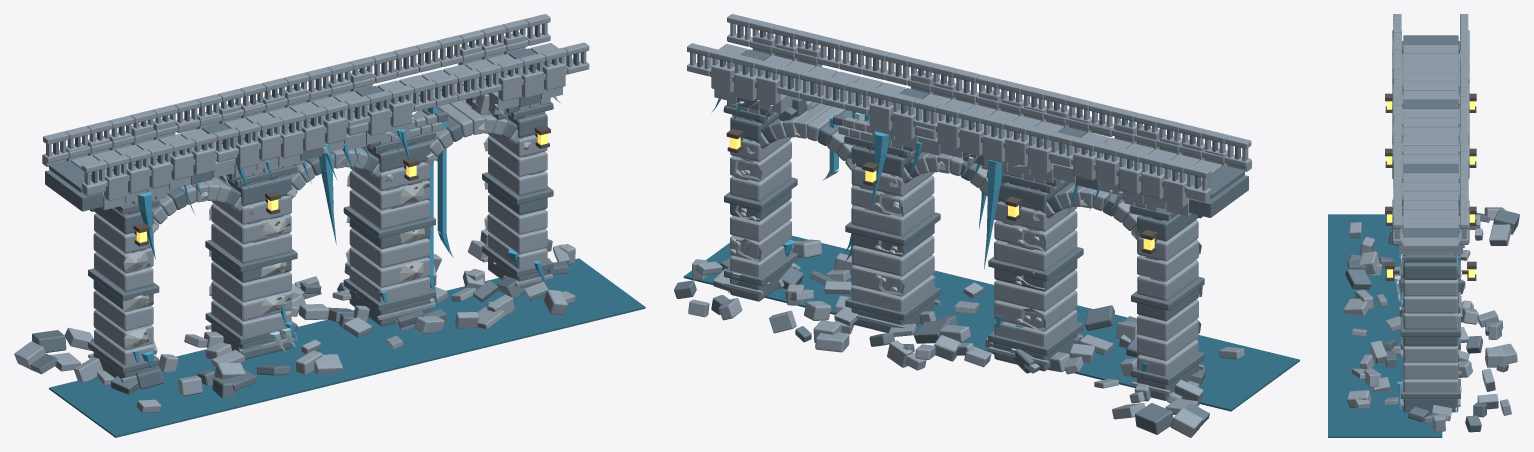
Rendered from ancient_ice_bridge_v04.glb.
3 views of the same model, side by side, from view 1: azimuth 30°, elevation 25°; view 2: azimuth 150°, elevation 25°; view 3: azimuth 270°, elevation 25° (orthographic). The views are drawn at different scales.
Visible parts, largest first — view 1: Frozen pool, Load bearing pier block.047, Load bearing pier block.003, Load bearing pier block.048, Load bearing pier block.051, Load bearing pier block.050, Load bearing pier block.005, Load bearing pier block.014, Load bearing pier block.012, Load bearing pier block.032, Load bearing pier block.030, Load bearing pier block.029 (+30 smaller); view 2: Frozen pool, Load bearing pier block.003, Load bearing pier block.048, Load bearing pier block.002, Load bearing pier block.006, Load bearing pier block.012, Load bearing pier block.050, Load bearing pier block.005, Load bearing pier block.032, Load bearing pier block.030, Load bearing pier block.014, Load bearing pier block.047 (+41 smaller); view 3: Frozen pool, Load bearing pier block.047, Load bearing pier block.053, Load bearing pier block.052, Load bearing pier block.048, Load bearing pier block.051, Load bearing pier block.050, Load bearing pier block.046, Bridge walking surface.022, Pier masonry collar.016, Load bearing pier block.045, Bridge walking surface.003 (+48 smaller).
Boxes of the visible parts, x1=… form: Frozen pool: x1=49, y1=258, x2=645, y2=437; Load bearing pier block.047: x1=487, y1=213, x2=547, y2=254; Load bearing pier block.003: x1=93, y1=290, x2=153, y2=330; Load bearing pier block.048: x1=488, y1=194, x2=547, y2=234; Load bearing pier block.051: x1=488, y1=136, x2=547, y2=176; Load bearing pier block.050: x1=488, y1=156, x2=547, y2=195; Load bearing pier block.005: x1=94, y1=252, x2=153, y2=291; Load bearing pier block.014: x1=211, y1=223, x2=269, y2=263; Load bearing pier block.012: x1=211, y1=262, x2=269, y2=302; Load bearing pier block.032: x1=349, y1=189, x2=407, y2=229; Load bearing pier block.030: x1=349, y1=228, x2=407, y2=267; Load bearing pier block.029: x1=349, y1=247, x2=405, y2=287; Frozen pool: x1=683, y1=235, x2=1299, y2=411; Load bearing pier block.003: x1=1137, y1=299, x2=1198, y2=341; Load bearing pier block.048: x1=730, y1=200, x2=791, y2=241; Load bearing pier block.002: x1=1137, y1=319, x2=1198, y2=360; Load bearing pier block.006: x1=1137, y1=239, x2=1198, y2=281; Load bearing pier block.012: x1=1017, y1=270, x2=1077, y2=311; Load bearing pier block.050: x1=730, y1=160, x2=791, y2=201; Load bearing pier block.005: x1=1137, y1=260, x2=1198, y2=300; Load bearing pier block.032: x1=874, y1=195, x2=934, y2=236; Load bearing pier block.030: x1=874, y1=235, x2=934, y2=276; Load bearing pier block.014: x1=1017, y1=230, x2=1077, y2=271; Load bearing pier block.047: x1=730, y1=220, x2=791, y2=261; Frozen pool: x1=1328, y1=214, x2=1442, y2=437; Load bearing pier block.047: x1=1403, y1=360, x2=1458, y2=379; Load bearing pier block.053: x1=1403, y1=262, x2=1458, y2=279; Load bearing pier block.052: x1=1403, y1=277, x2=1458, y2=296; Load bearing pier block.048: x1=1403, y1=344, x2=1458, y2=362; Load bearing pier block.051: x1=1403, y1=294, x2=1458, y2=312; Load bearing pier block.050: x1=1403, y1=311, x2=1458, y2=329; Load bearing pier block.046: x1=1403, y1=377, x2=1458, y2=392; Bridge walking surface.022: x1=1403, y1=237, x2=1458, y2=249; Pier masonry collar.016: x1=1400, y1=316, x2=1460, y2=336; Load bearing pier block.045: x1=1403, y1=399, x2=1458, y2=412; Bridge walking surface.003: x1=1403, y1=63, x2=1458, y2=72.
Bounding box in the file's own units: 23 × 10.16 × 8.4.
